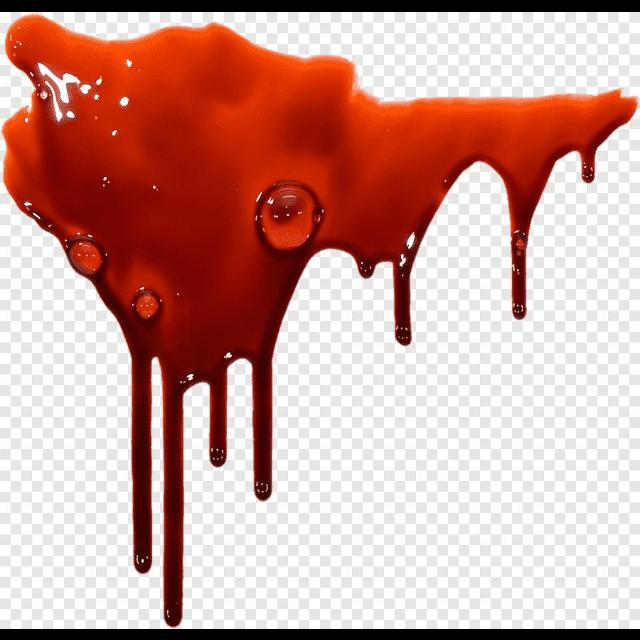blood: (1, 12, 639, 626)
